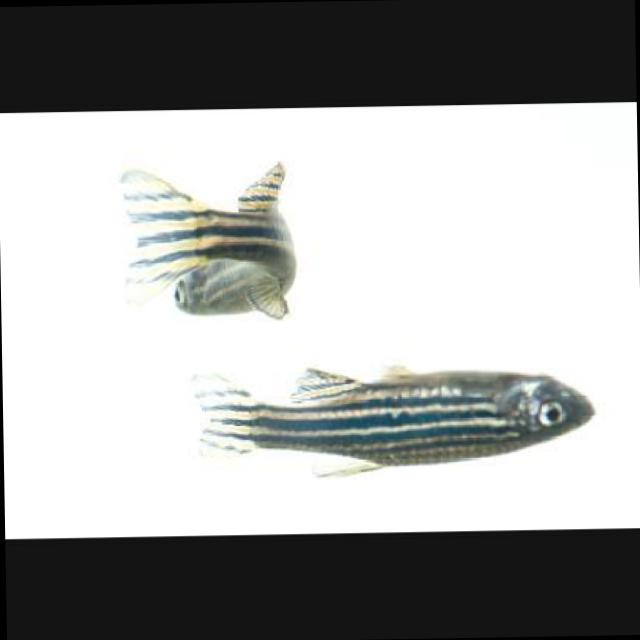ZebraFish: (208, 368, 592, 484)
